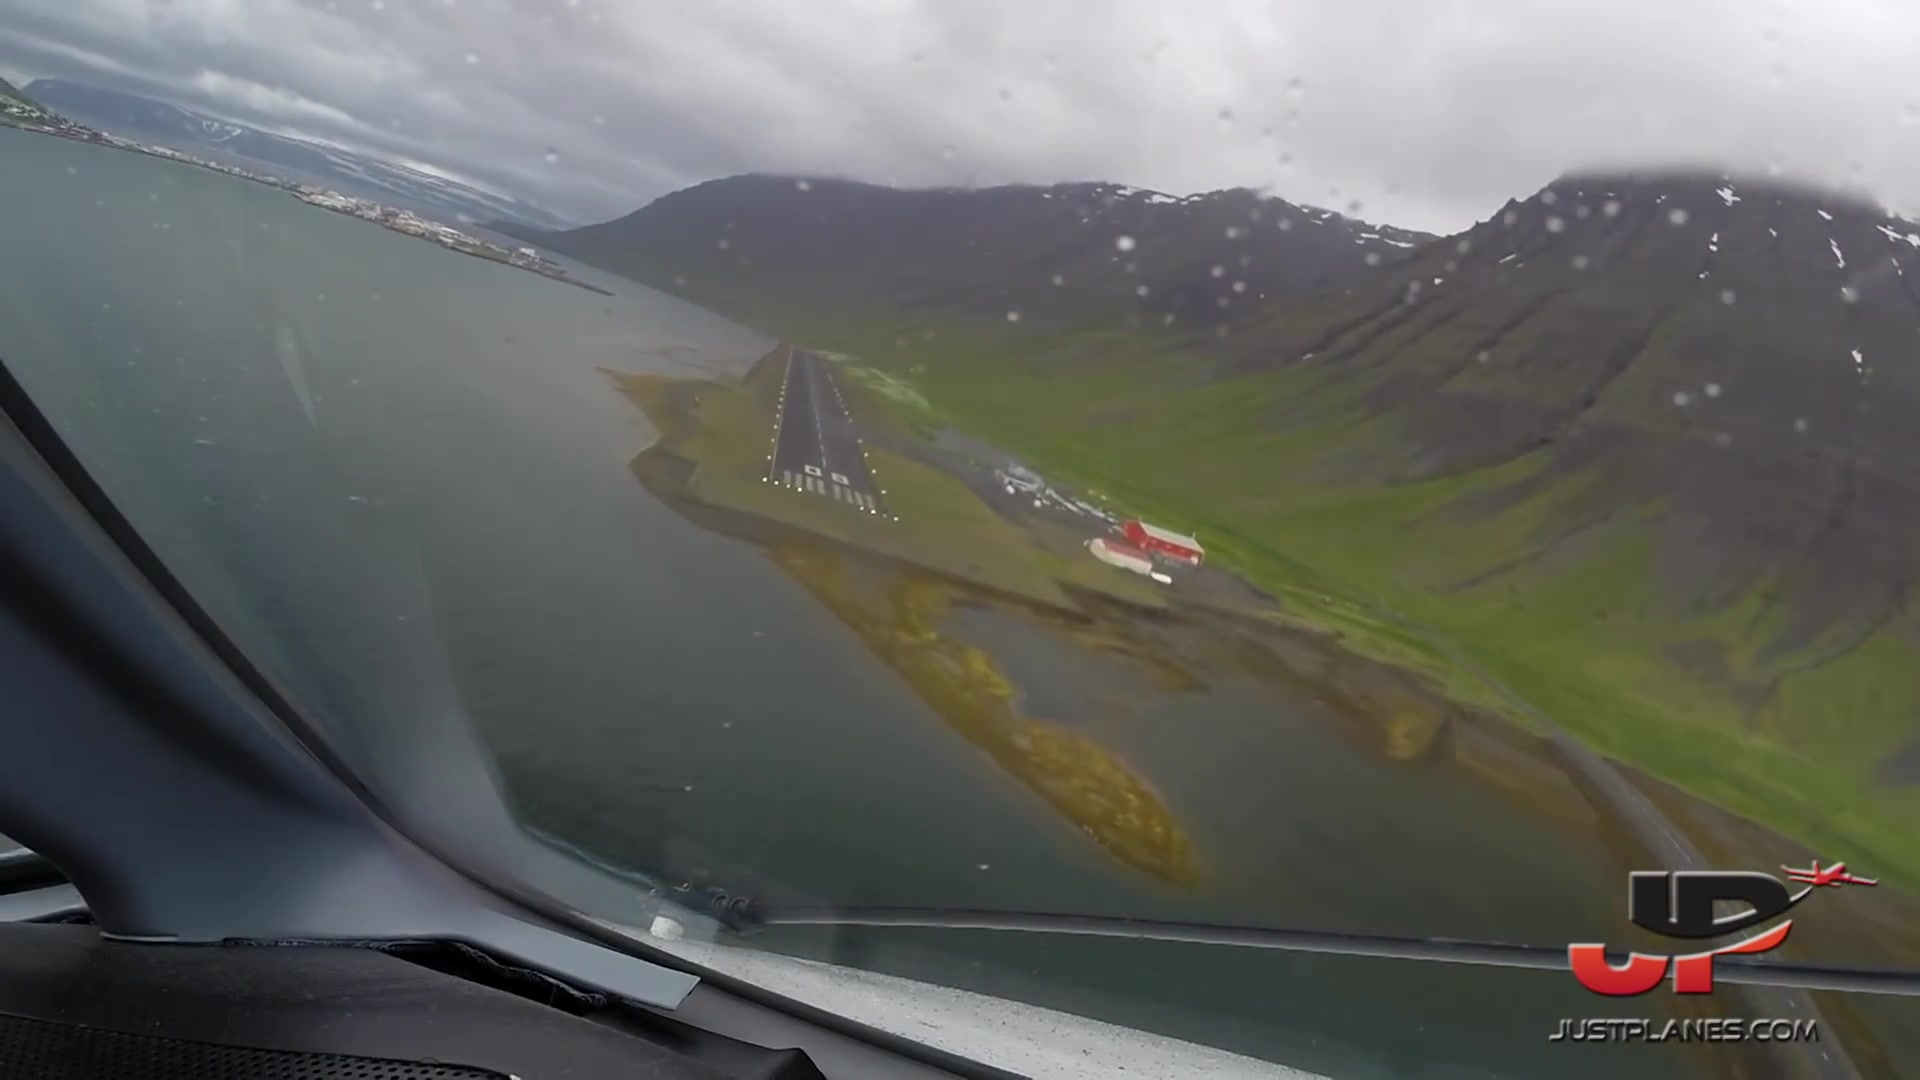entrance: (783, 469, 876, 513)
runway: (766, 349, 901, 524)
